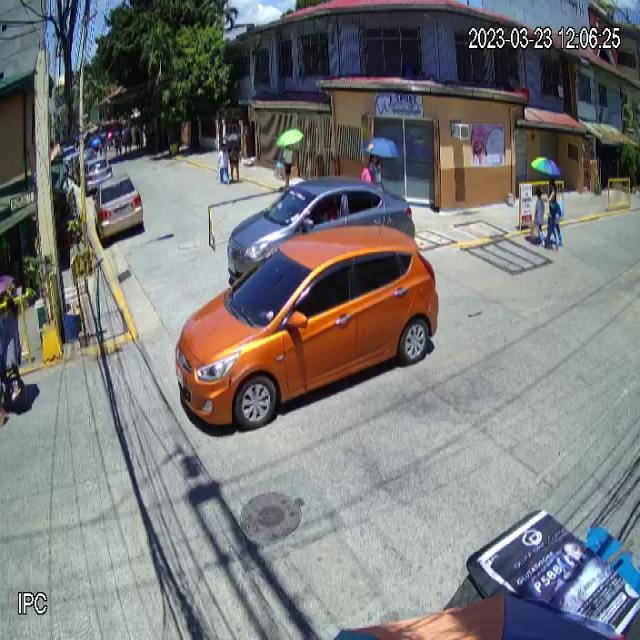Car: (174, 223, 439, 431)
